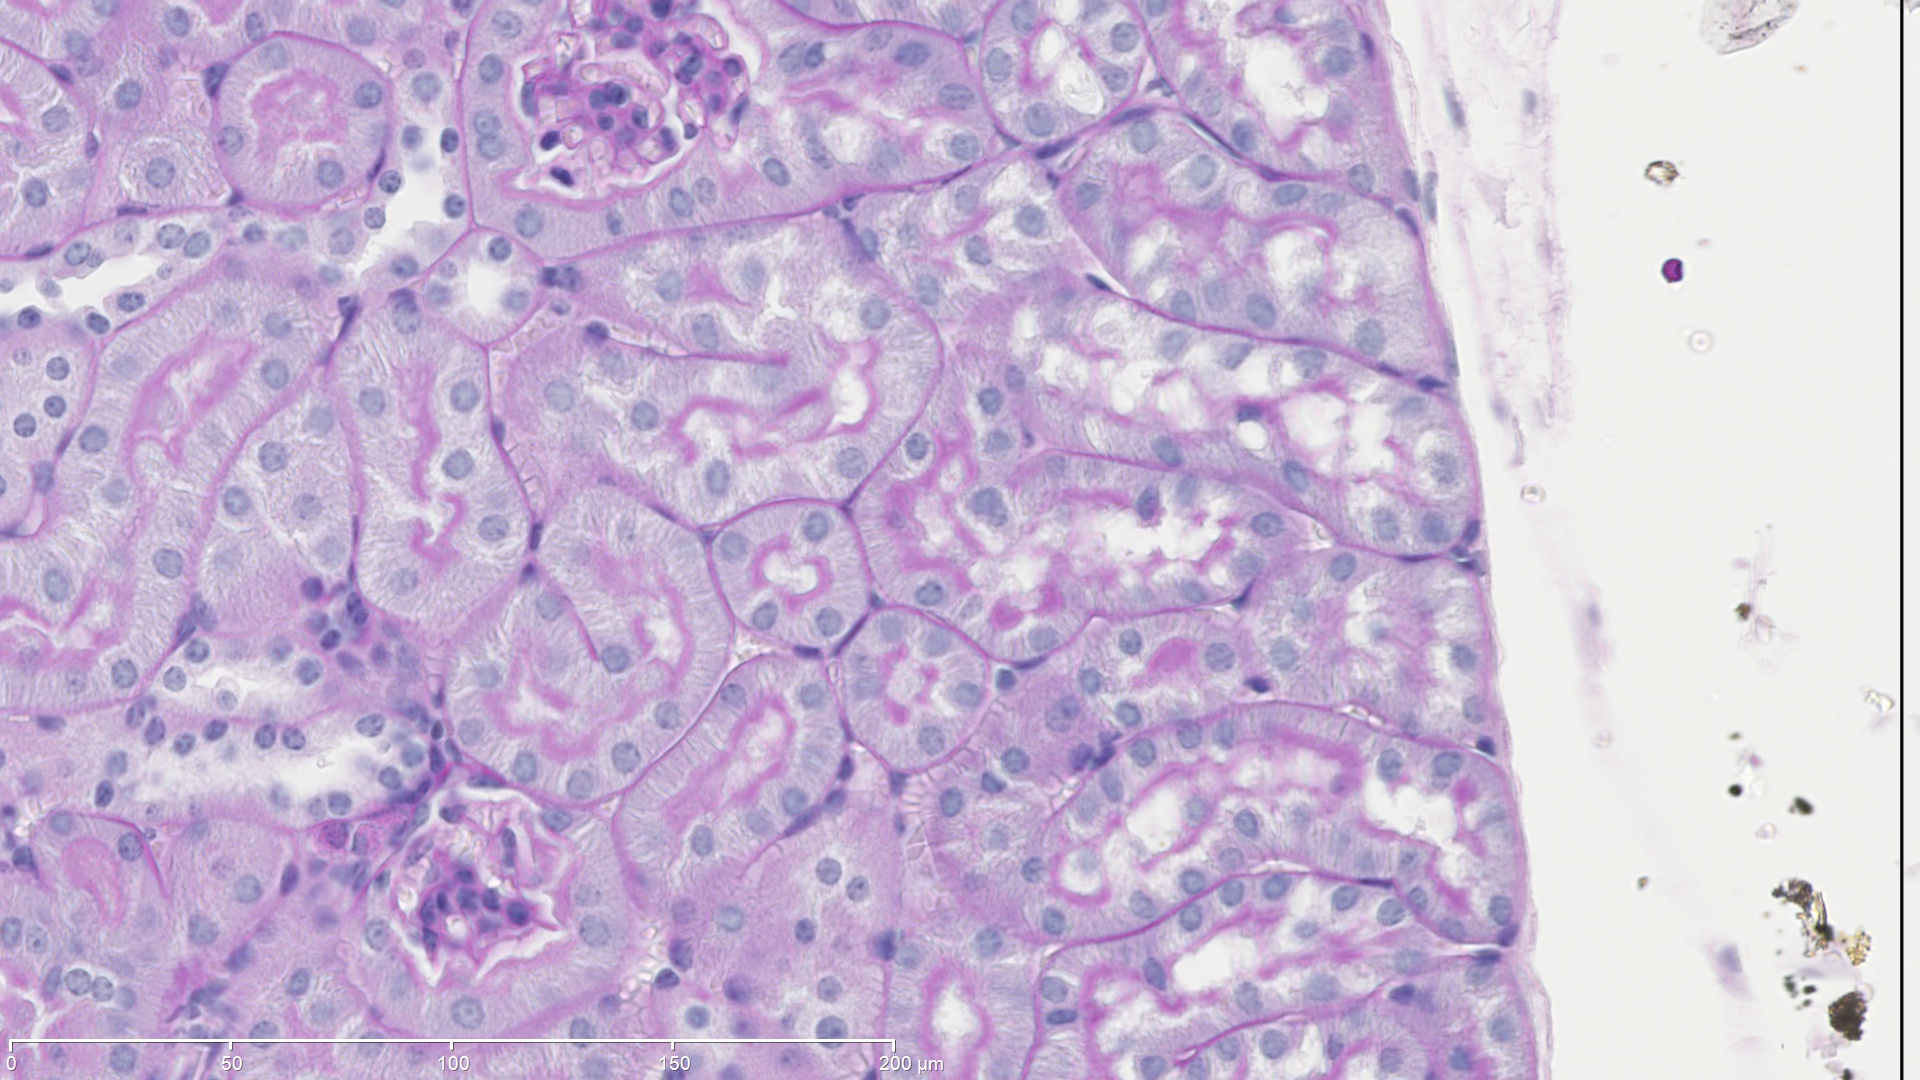Glomeruli: (502, 1, 762, 200), (360, 774, 580, 965)
